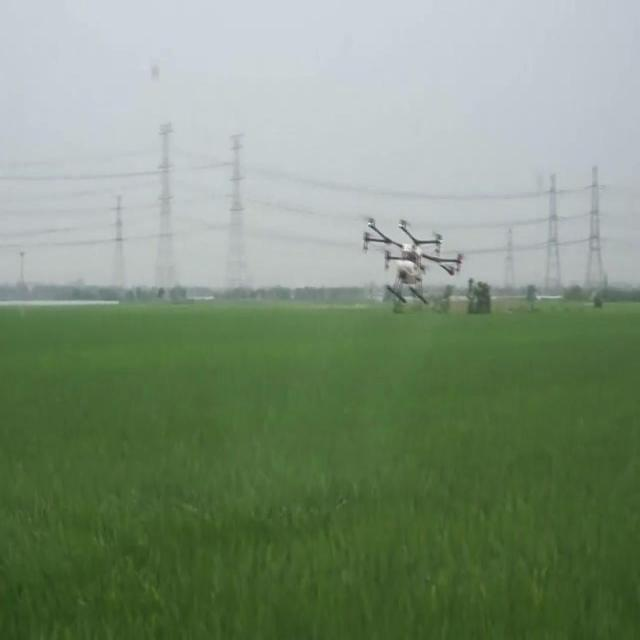drone: (362, 214, 465, 308)
